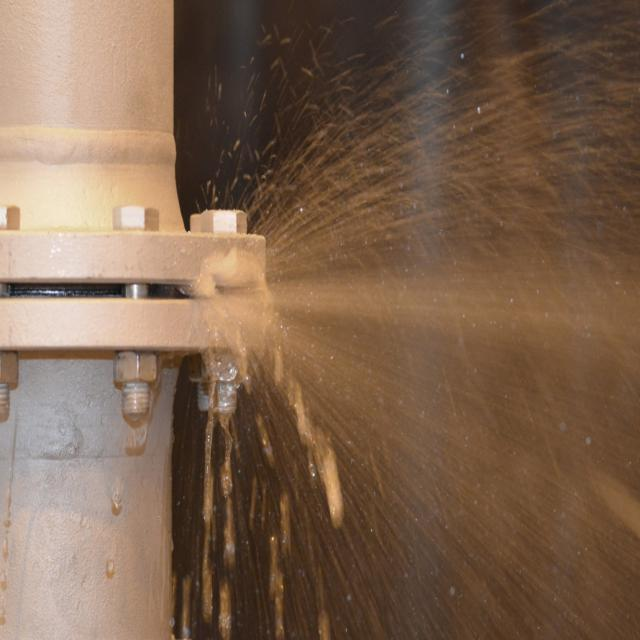leak: (163, 0, 640, 640)
